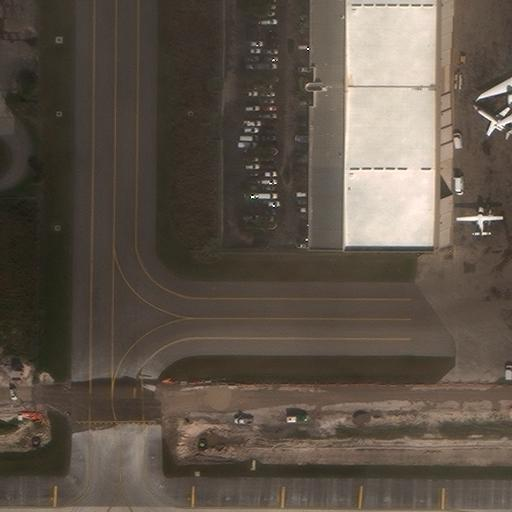Medium Civil Transport: (474, 53, 511, 126), (456, 205, 503, 237)
Small Civil Transport: (472, 105, 511, 135)
